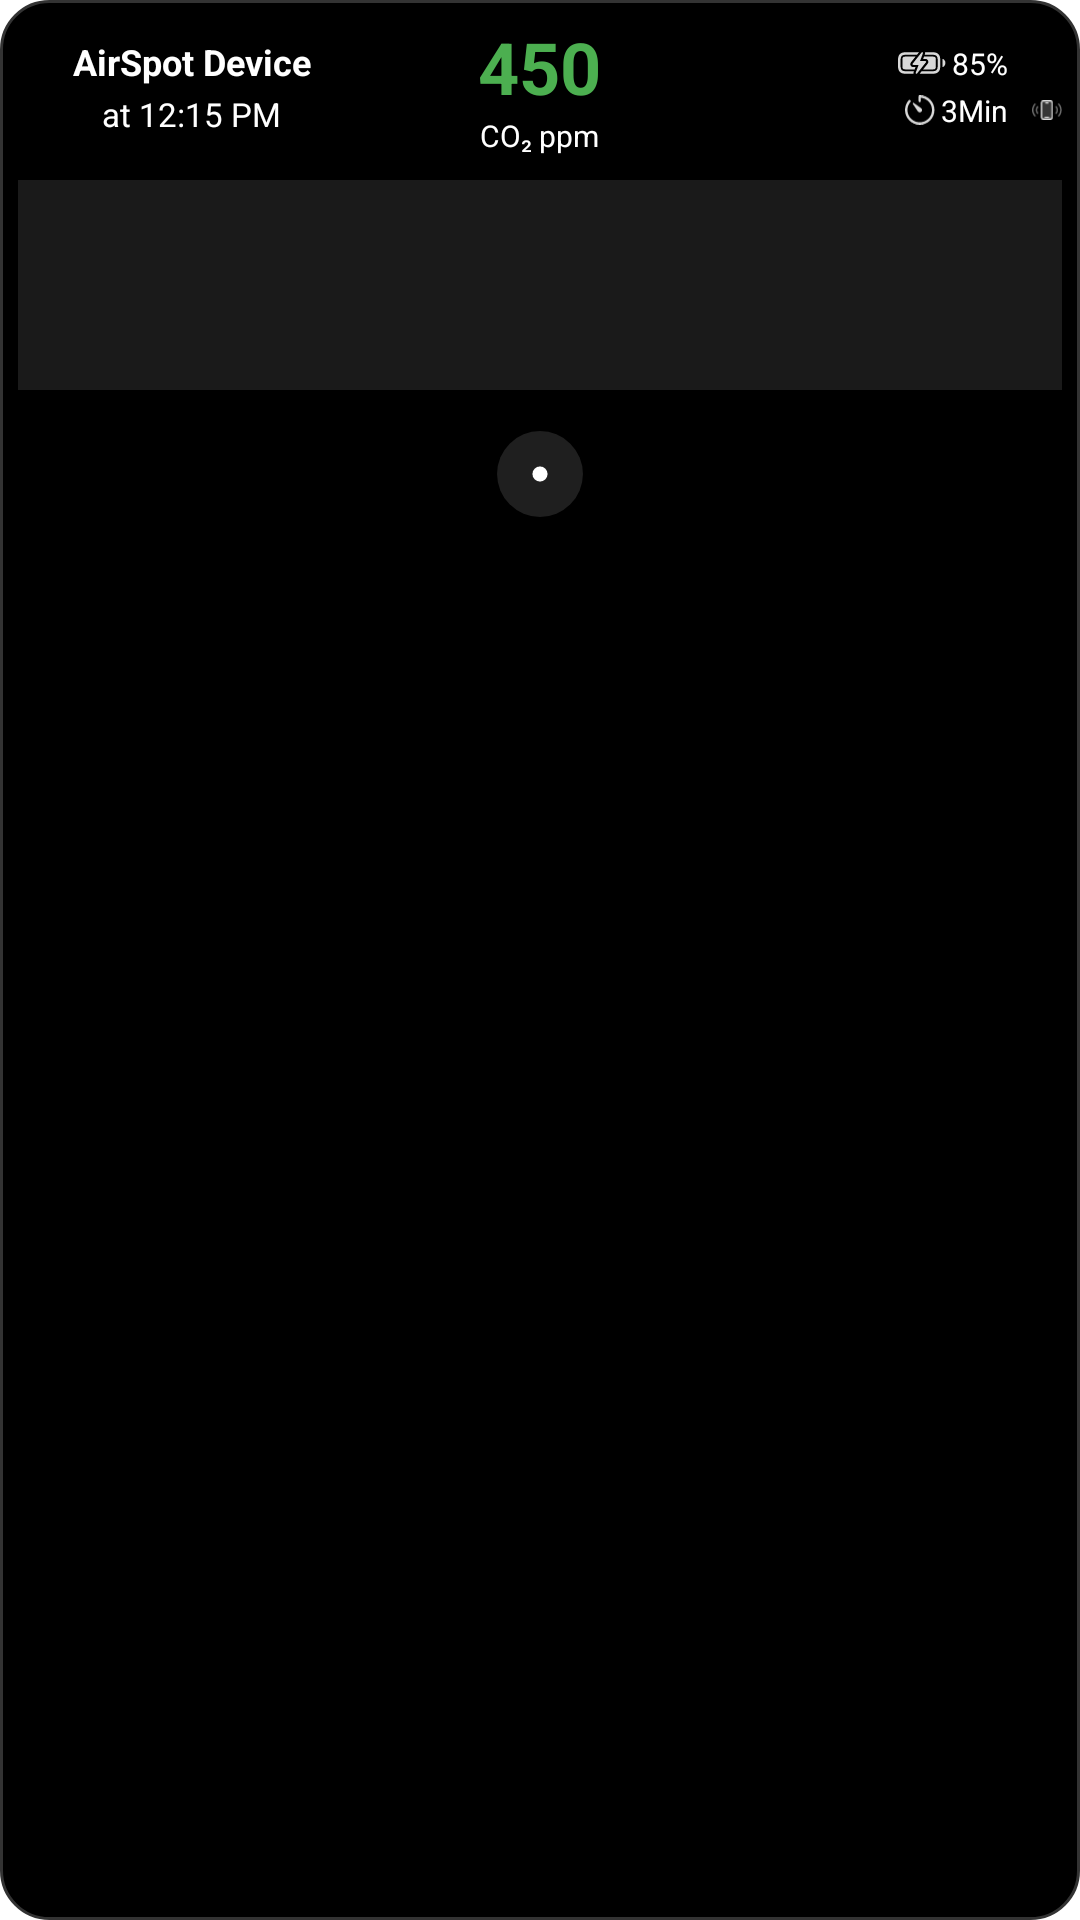

Named icons in this screenshot (1080px x 1920px) and their bounding boxes, (x1, y1, x2, y2):
battery 100percent bolt: (898, 52, 946, 74)
iphone radiowaves: (1032, 100, 1062, 120)
timer: (905, 95, 935, 125)
